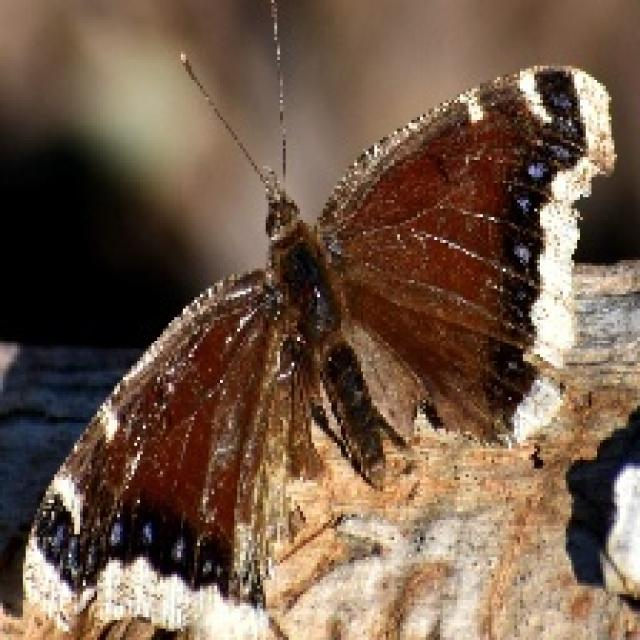butterfly: (20, 0, 614, 629)
